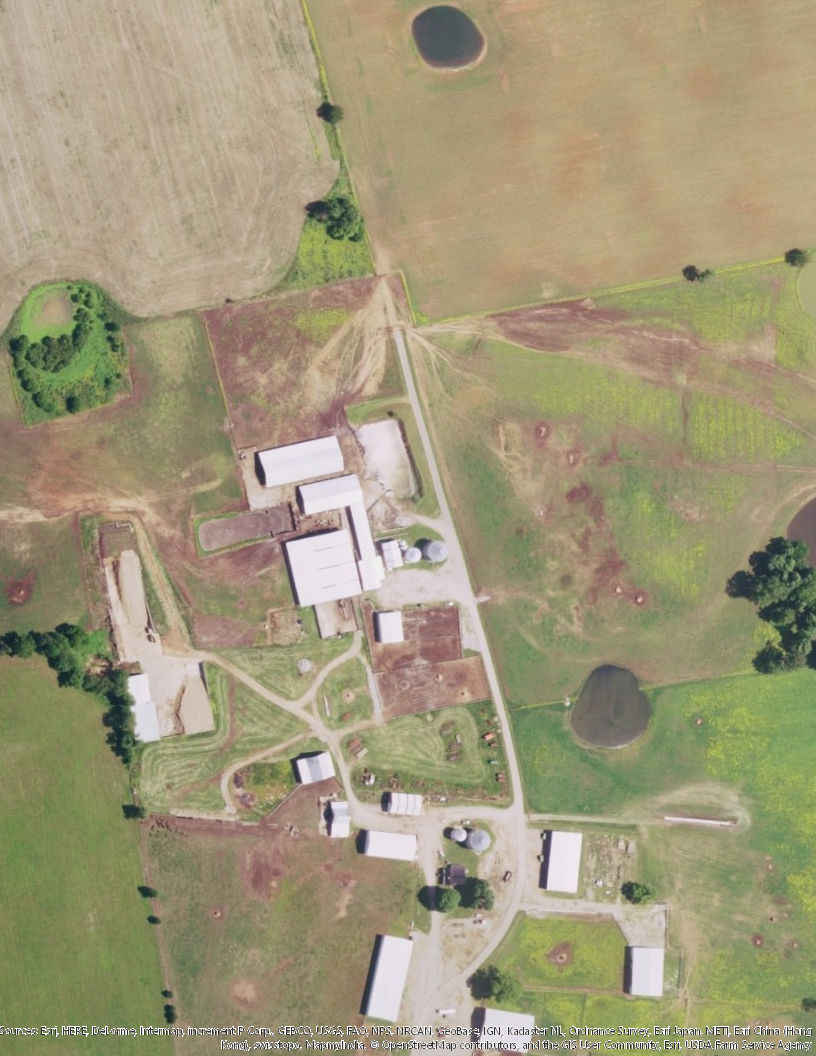cafo: (279, 470, 393, 608), (246, 427, 363, 487), (361, 927, 417, 1023), (540, 824, 587, 895), (628, 944, 673, 1001)
